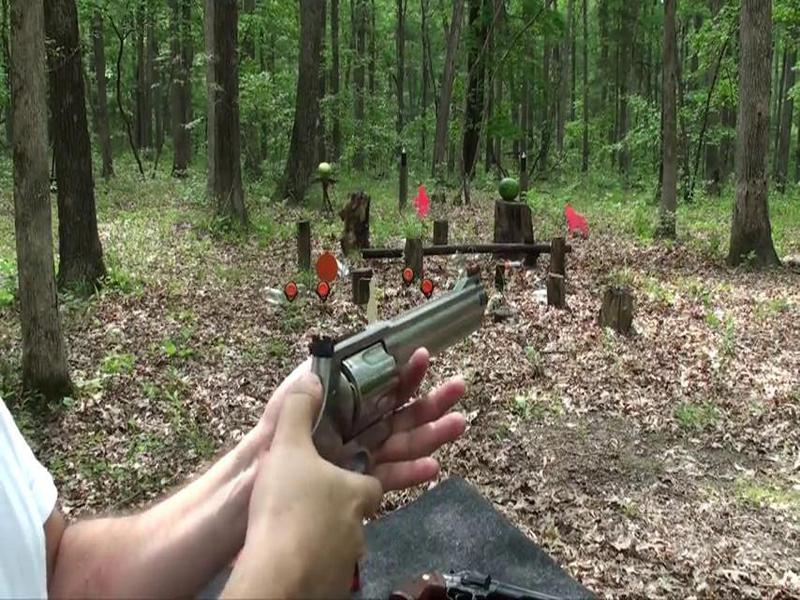Revolver: (254, 260, 527, 511)
